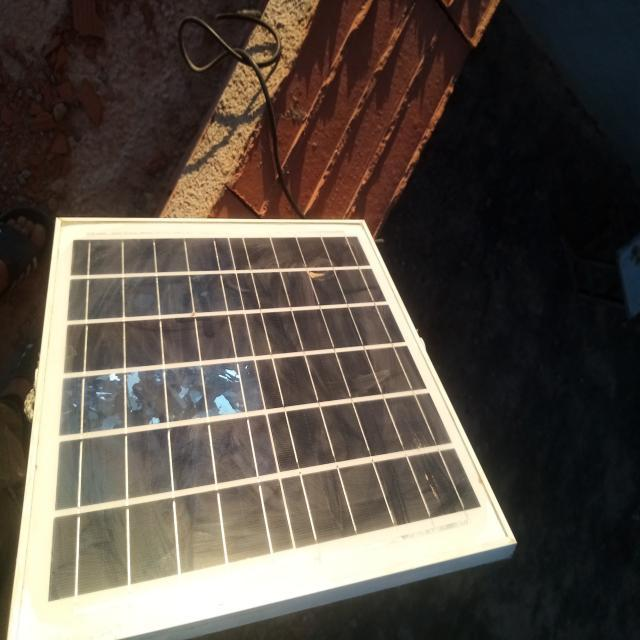faulty: (11, 218, 515, 639)
